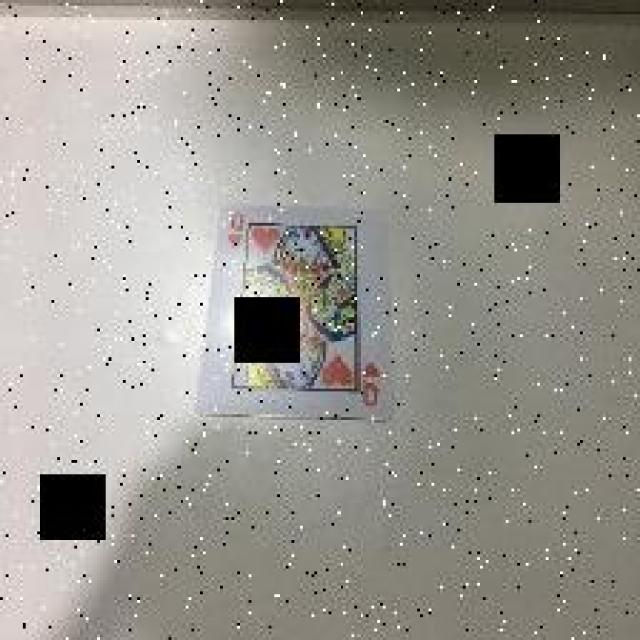Queen of hearts: (202, 204, 392, 419)
